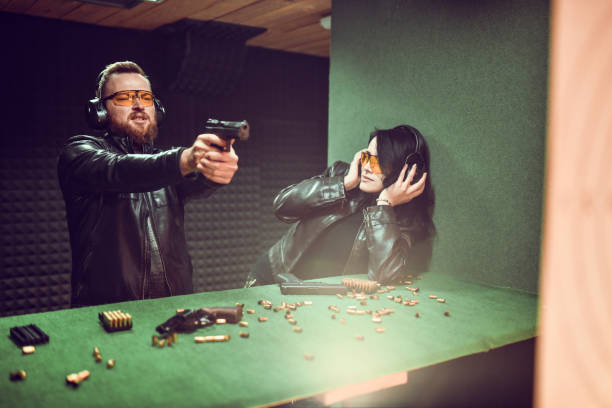gun: (155, 306, 245, 335), (202, 119, 253, 153), (276, 272, 348, 295)
